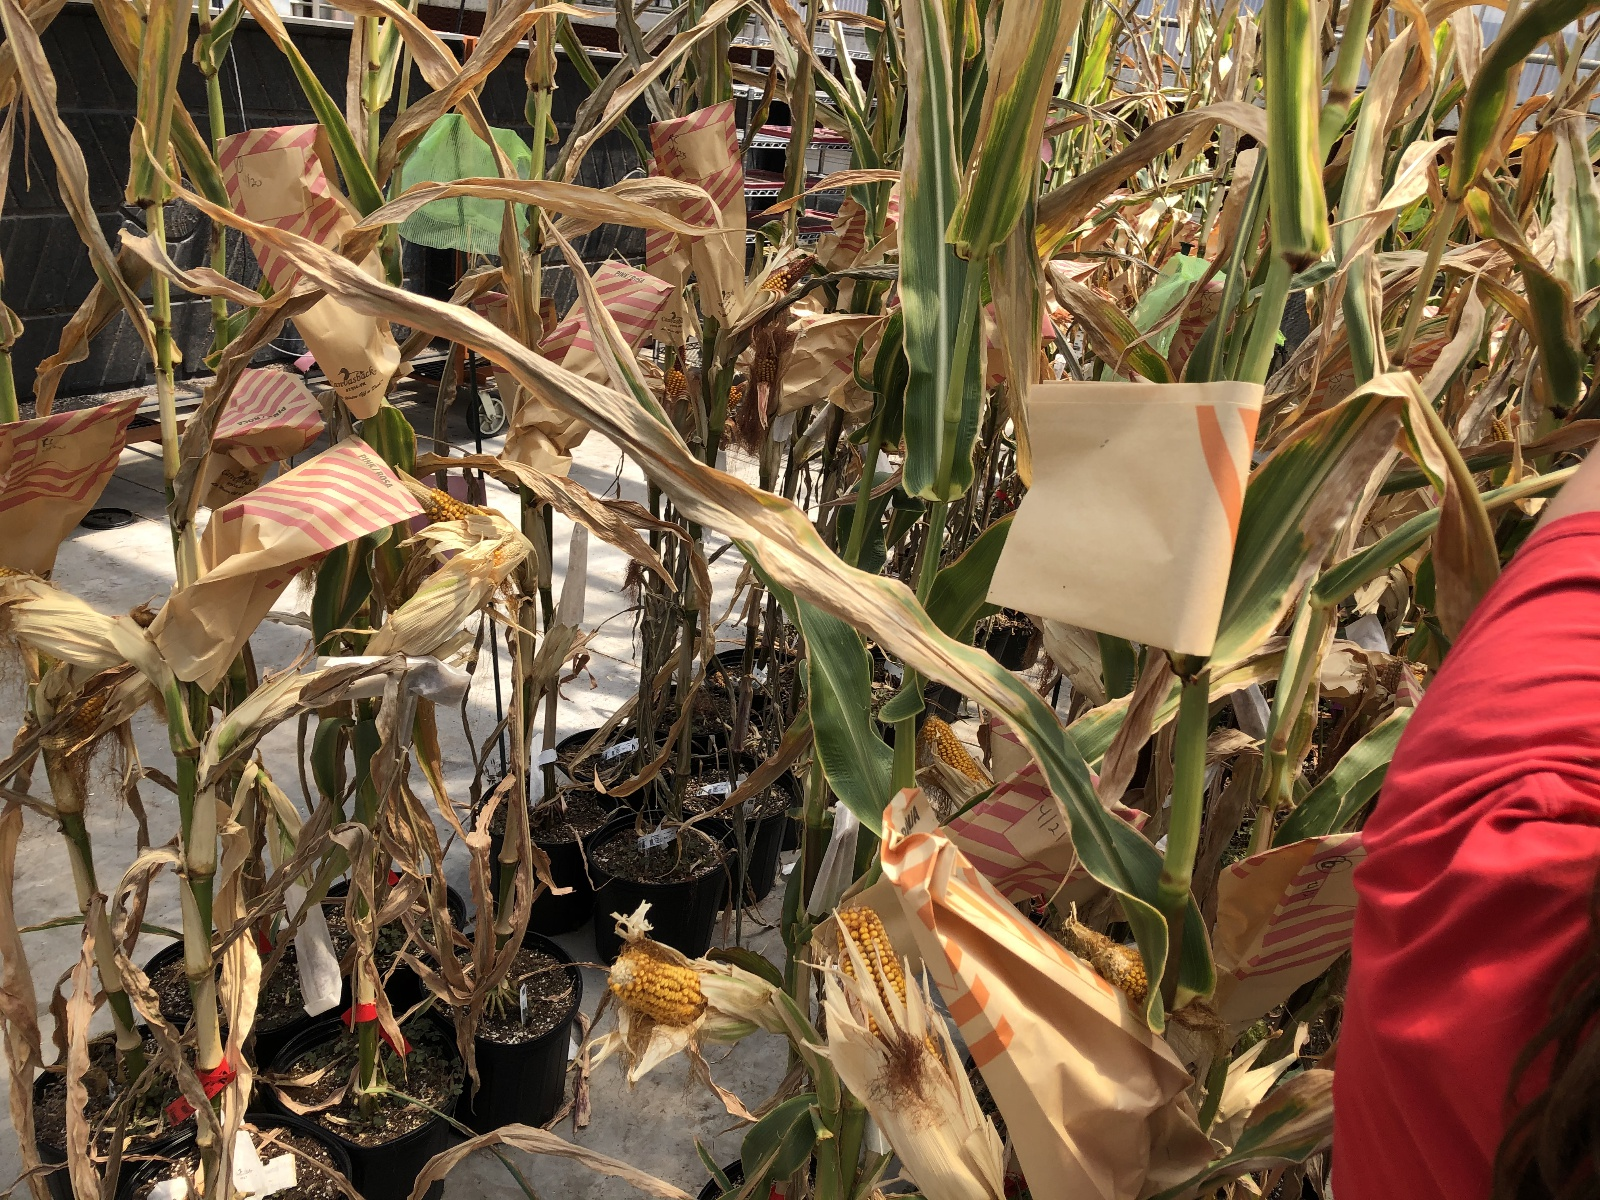ear: (609, 935, 769, 1029), (398, 468, 532, 572), (917, 703, 1004, 803), (729, 250, 820, 323), (661, 338, 722, 412), (1104, 940, 1151, 1003), (753, 330, 782, 388), (726, 376, 748, 407)
w: (831, 897, 1024, 1200)
